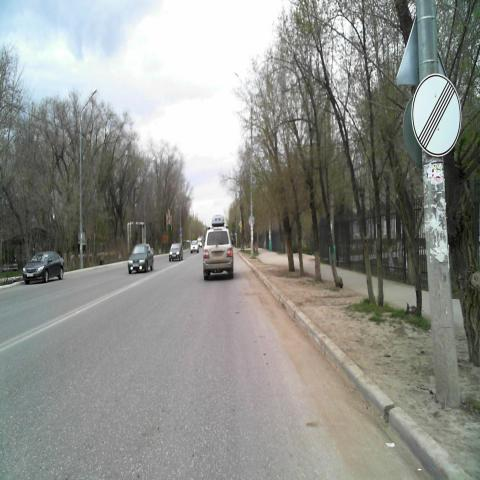3_31: (409, 72, 461, 158)
